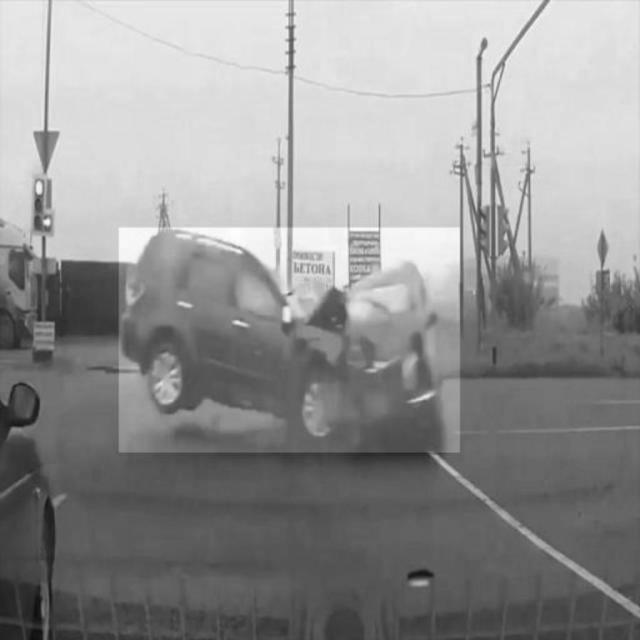accident: (119, 227, 459, 453)
